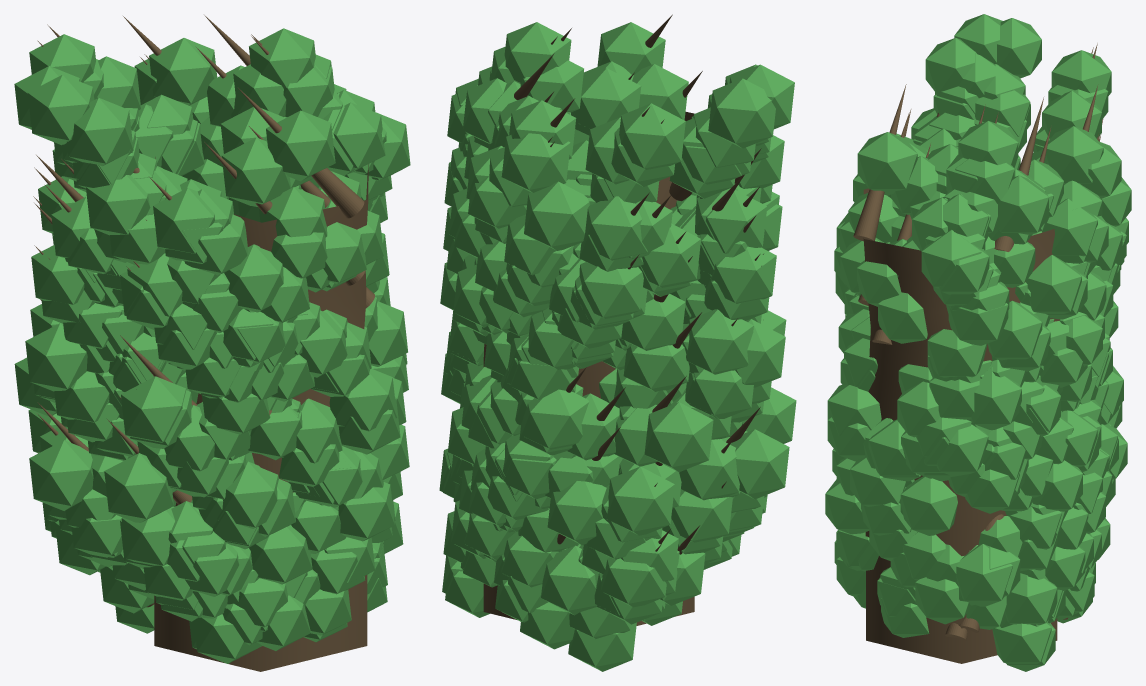
Rendered from tree_var_8539.glb.
3 renders of one model, left to right at view 1: azimuth 30°, elevation 25°; view 2: azimuth 150°, elevation 25°; view 3: azimuth 270°, elevation 25°, orthographic. The views are drawn at different scales.
Visible parts, largest first — view 1: tree_var_8539; view 2: tree_var_8539; view 3: tree_var_8539.
Part boxes in pixels (box(x1,y1,x2,y2)): tree_var_8539: box(14, 15, 410, 671); tree_var_8539: box(439, 14, 796, 671); tree_var_8539: box(825, 14, 1131, 671).
Bounding box in the file's own units: 3.34 × 5.53 × 2.77.
